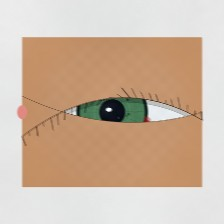hemorrhage_spot: (95, 101, 161, 153)
